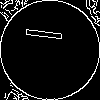I: (25, 25, 73, 44)
